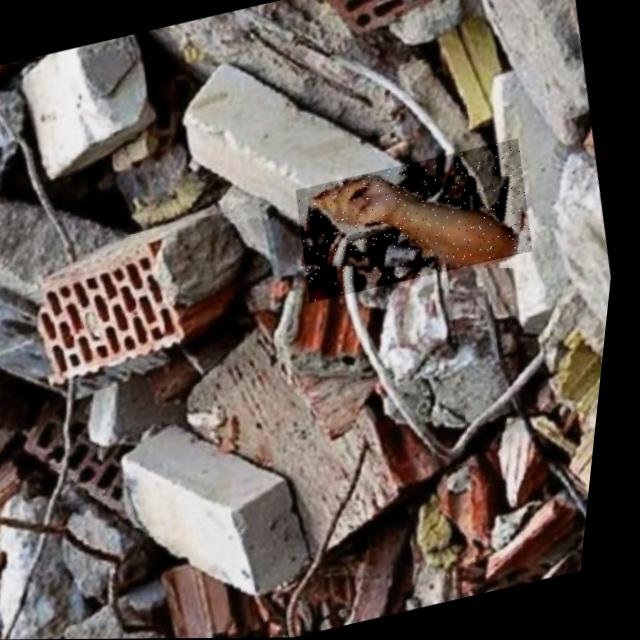Person in Rubble: (290, 138, 546, 302)
